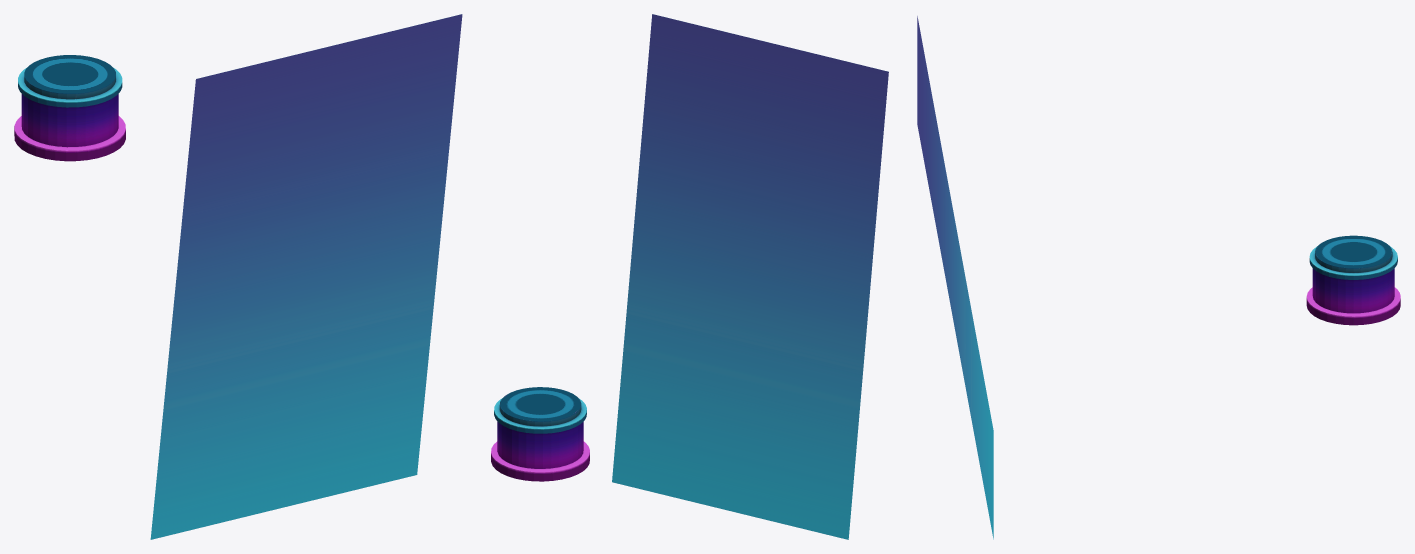
Rendered from CreatureDetailsScreen.fbx.
3 renders of one model, left to right at view 1: azimuth 30°, elevation 25°; view 2: azimuth 150°, elevation 25°; view 3: azimuth 270°, elevation 25°, orthographic. The views are drawn at different scales.
Parts seen in each view (by area): view 1: evolve_BGQuad, evolve_pedestal; view 2: evolve_BGQuad, evolve_pedestal; view 3: evolve_BGQuad, evolve_pedestal.
Boxes of the visible parts, box(x1,y1,x2,y2) form: evolve_BGQuad: box(150, 14, 462, 539); evolve_pedestal: box(14, 55, 125, 161); evolve_BGQuad: box(612, 14, 888, 539); evolve_pedestal: box(491, 387, 589, 481); evolve_BGQuad: box(917, 16, 993, 539); evolve_pedestal: box(1306, 235, 1400, 325).
Size of what is drawn, in the model's own units: 6.69 by 11.84 by 12.47.
Materials: 2 (2 with a texture image).
